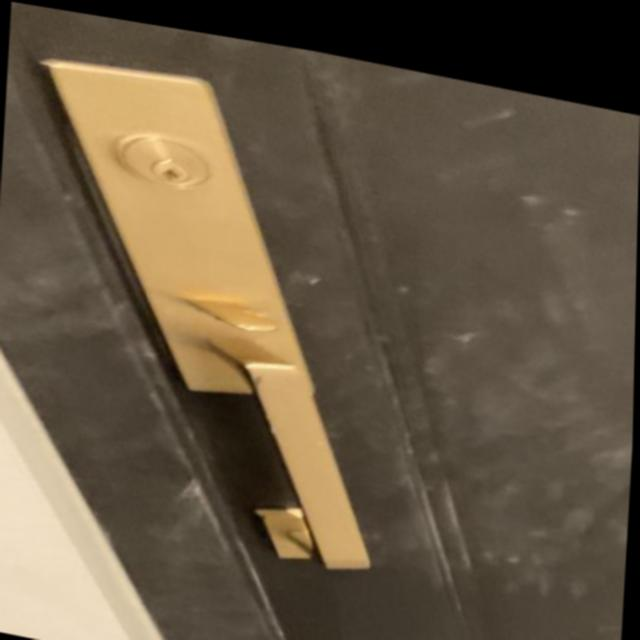door_handle: (165, 315, 402, 576)
